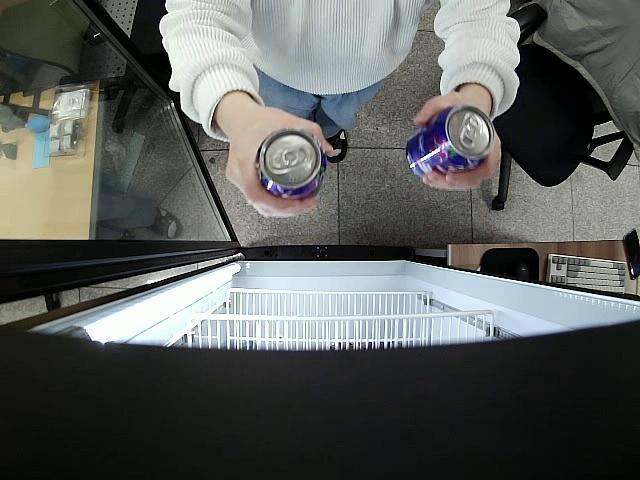14_welchsGrape: (404, 106, 493, 182), (257, 126, 326, 201)
